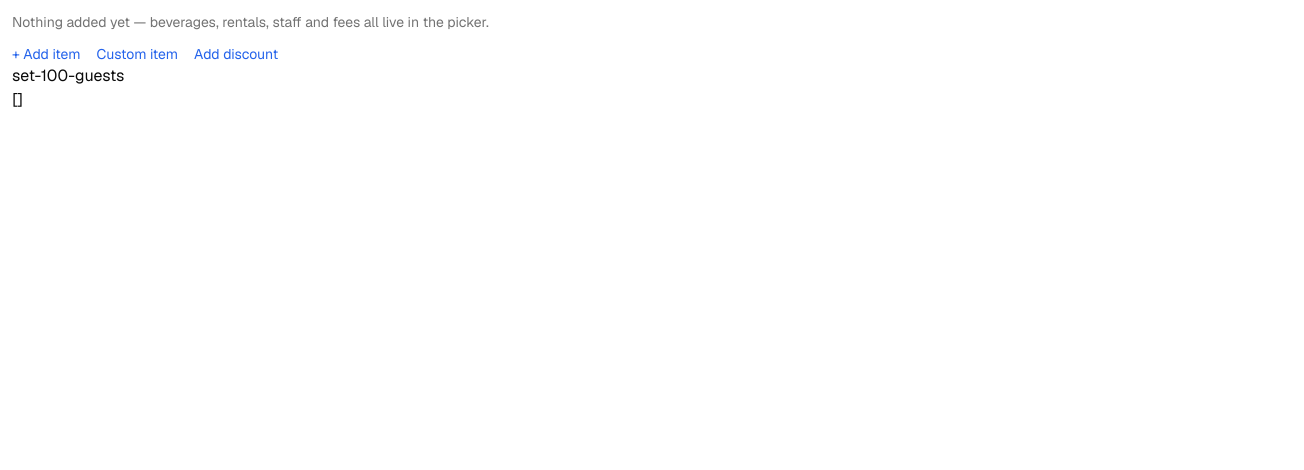
it: AddOnItemsEditor — the catalogue picker › AC9: a variant name is searchable too, and a miss says so
Click the button "+ Add item".
click(46, 54)  # box top-left (12, 44), bottom-right (80, 64)
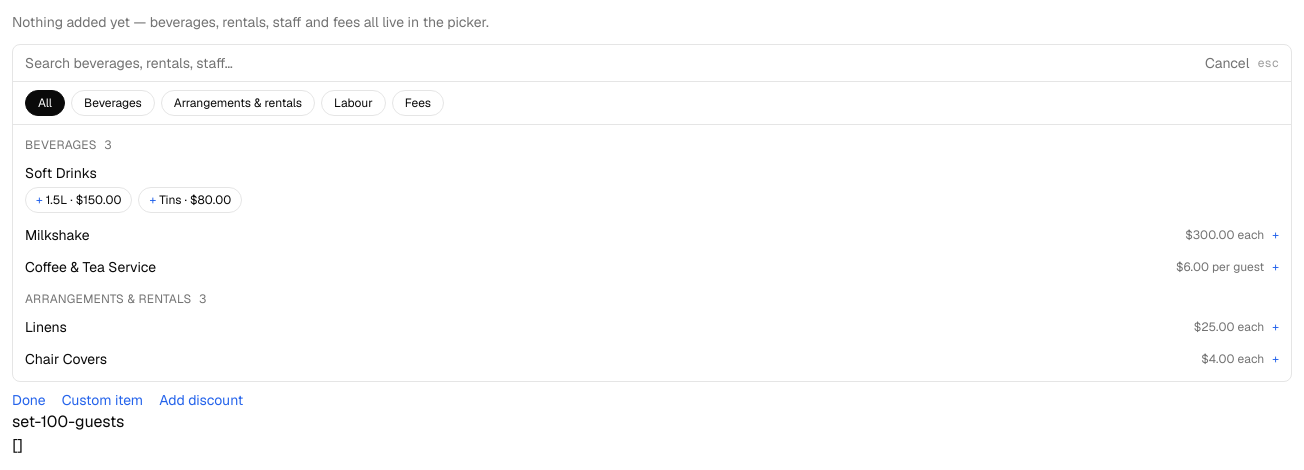
Type "tins" into the field named "Search add-ons".
click(611, 63); type("tins")  # box top-left (25, 53), bottom-right (1197, 73)
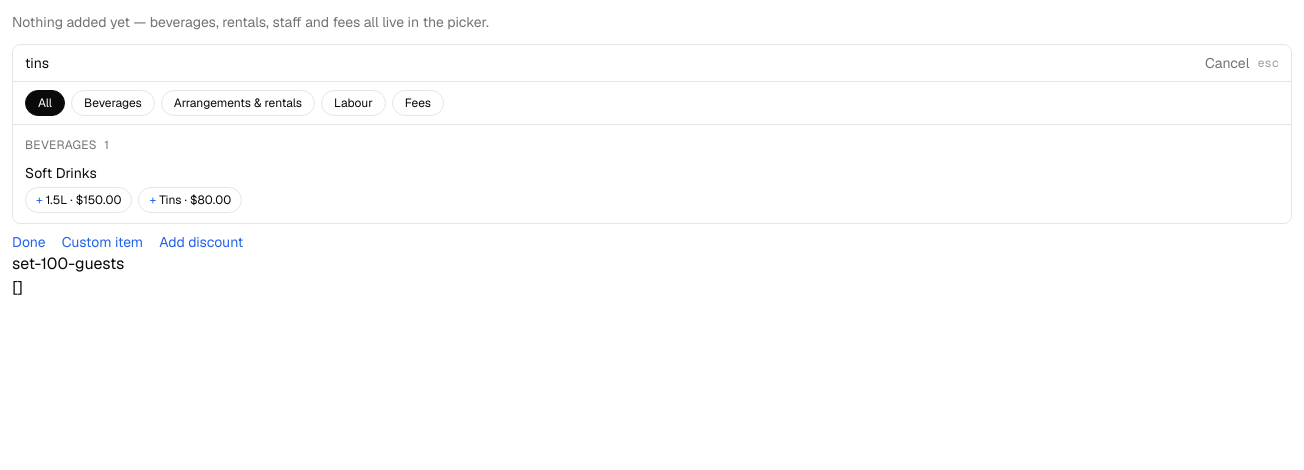
Now the button with aria-label "Add Soft Drinks — Tins" is shown, box top-left (138, 187), bottom-right (242, 213)
Replace the text in the field named "Search add-ons" with "zzz" at (611, 63), box top-left (25, 53), bottom-right (1197, 73)
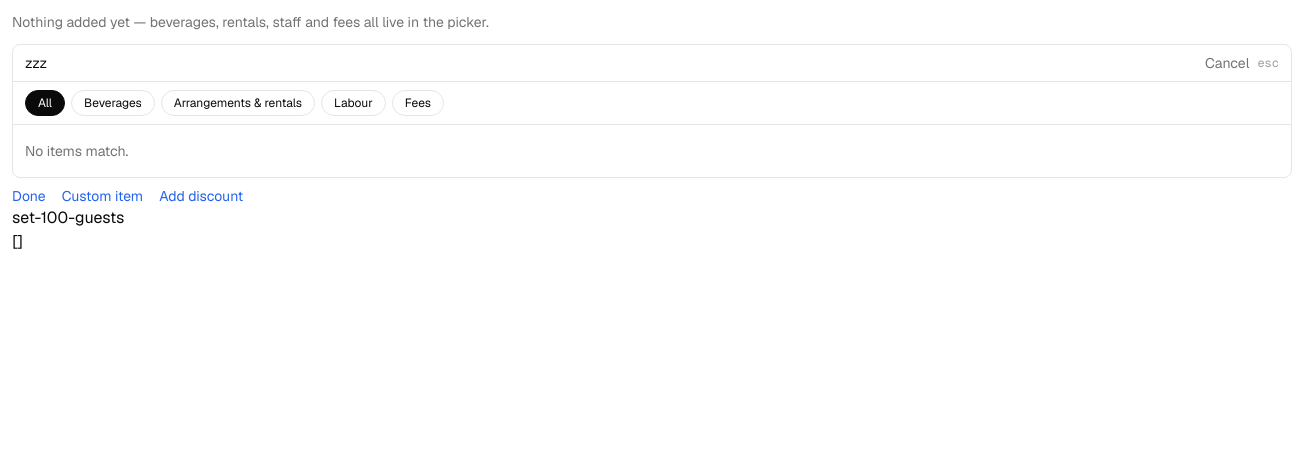
Now the text "No items match." is shown, box top-left (25, 142), bottom-right (128, 160)
